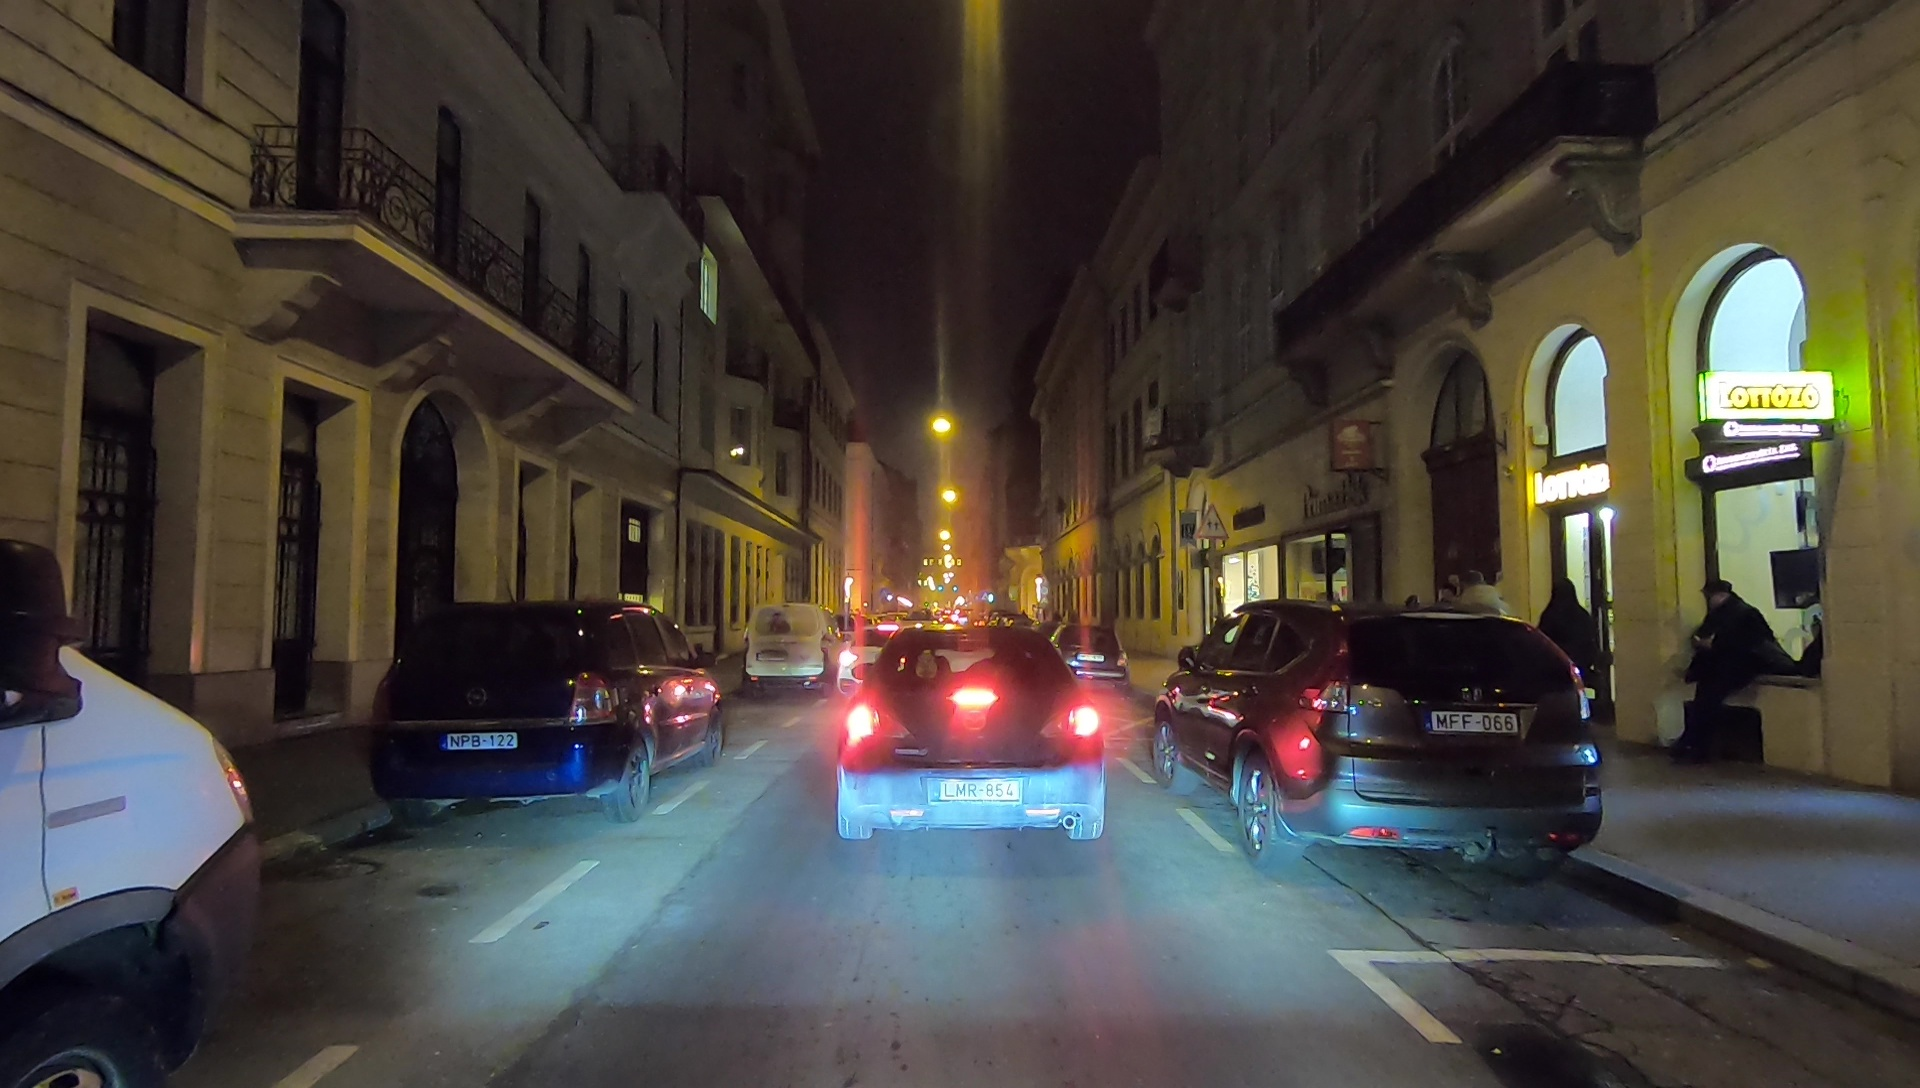person: (1691, 576, 1778, 754), (1536, 573, 1597, 736), (1447, 569, 1506, 723)
